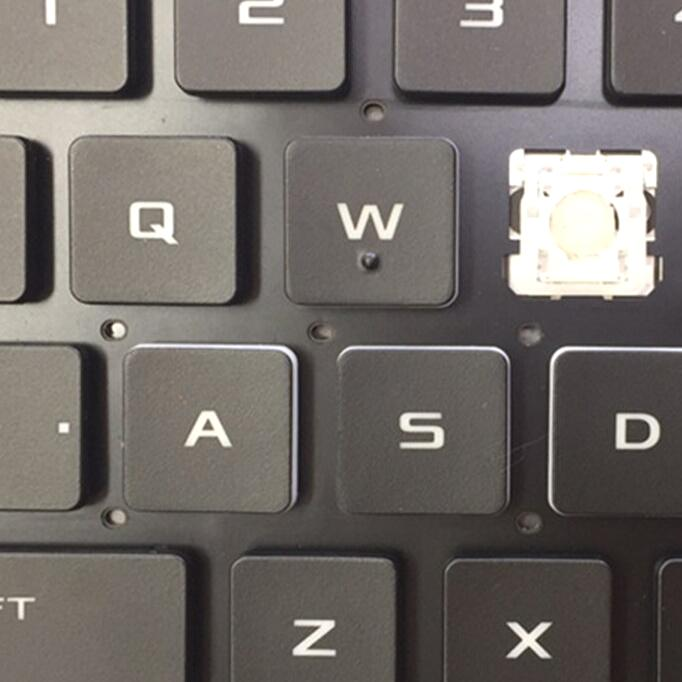1: (1, 1, 139, 98)
2: (168, 1, 350, 98)
3: (387, 1, 569, 99)
a: (119, 341, 301, 515)
d: (543, 341, 682, 515)
q: (65, 130, 247, 304)
s: (332, 344, 514, 518)
shift-left: (1, 550, 191, 682)
shift-lock: (1, 341, 94, 515)
w: (276, 136, 458, 310)
x: (437, 550, 620, 682)
z: (222, 550, 405, 682)
